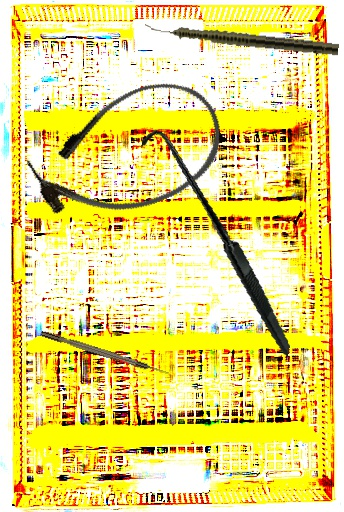Cannula: (15, 64, 240, 243)
Handpiece: (143, 20, 340, 57)
Hook Surgical: (109, 128, 323, 359), (40, 329, 171, 378)
